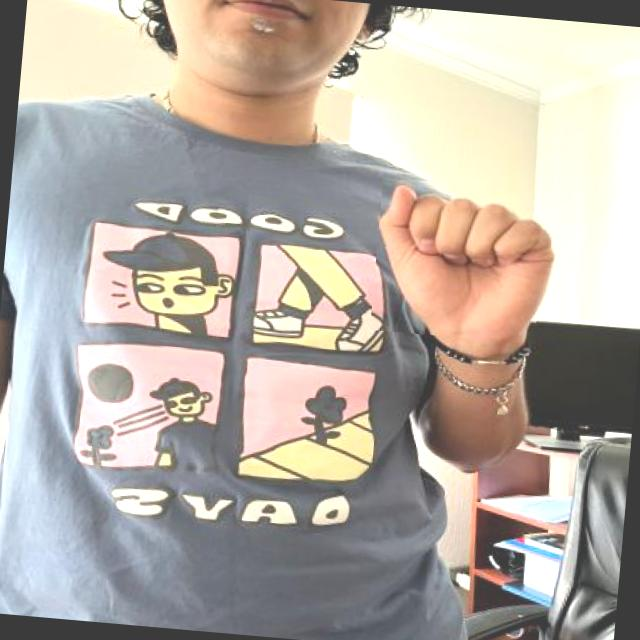A: (370, 173, 566, 345)
